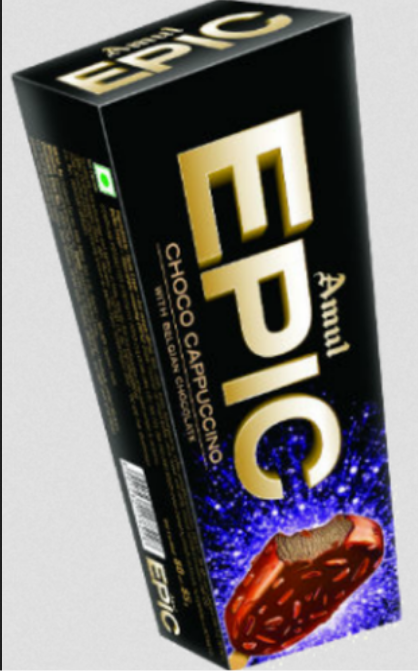Amul: (306, 265, 362, 362)
